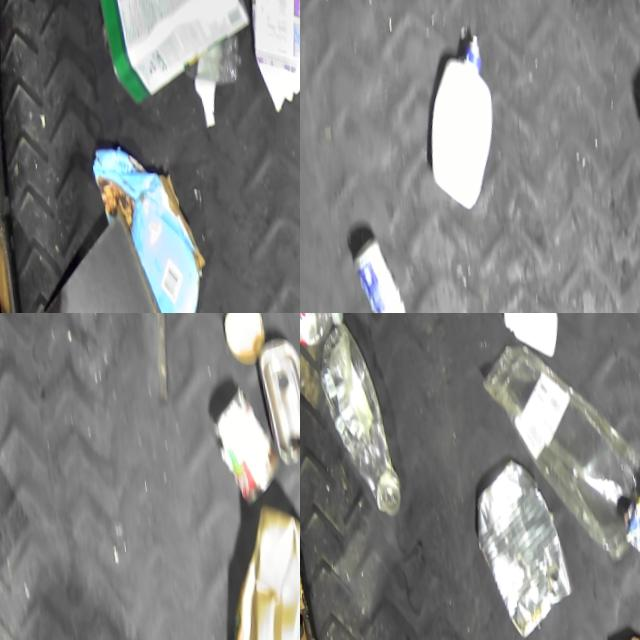can: (463, 449, 573, 639), (206, 382, 281, 503), (347, 226, 412, 313)
milk_jug: (410, 25, 502, 208)
non_white_jug: (206, 490, 300, 640), (613, 463, 640, 602)
plastic_bottle: (311, 320, 400, 519), (300, 313, 343, 349)
